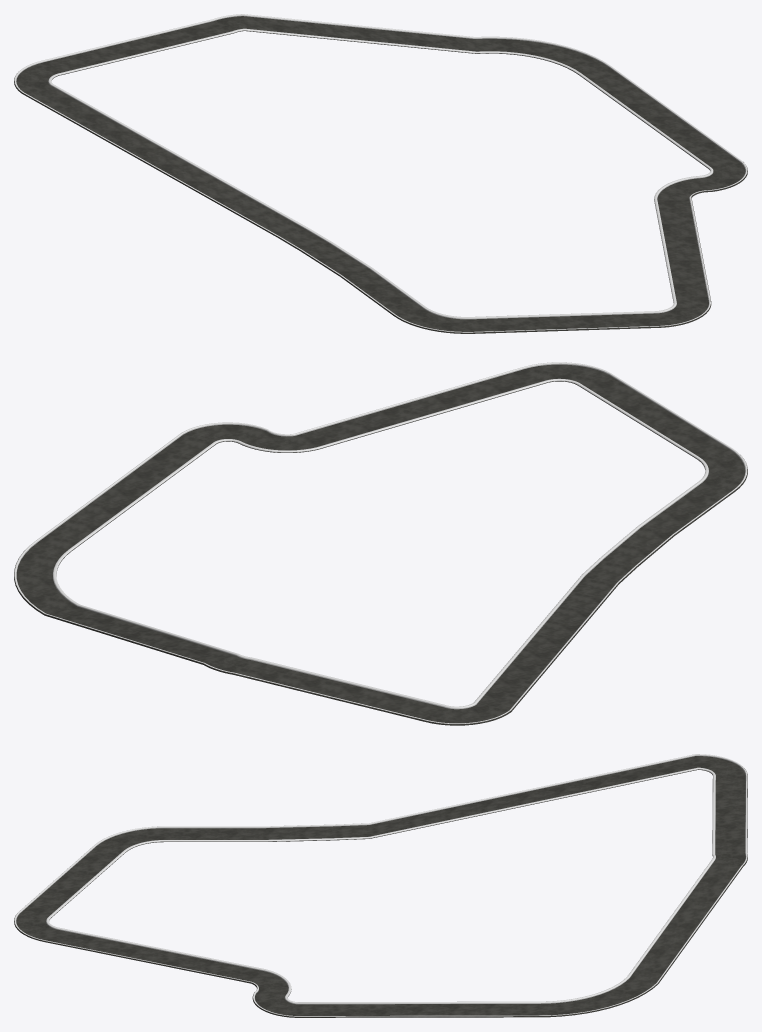
File: pist2.fbx
3 renders of one model, top to bottom at view 1: azimuth 30°, elevation 25°; view 2: azimuth 150°, elevation 25°; view 3: azimuth 270°, elevation 25°, orthographic. The views are drawn at different scales.
Visible parts, largest first — view 1: Plane; view 2: Plane; view 3: Plane.
Part boxes in pixels (<box>): Plane: <box>14,14,747,333</box>; Plane: <box>14,362,747,725</box>; Plane: <box>14,754,747,1017</box>.
Bounding box in the file's own units: 37422 × 2568 × 50423.
